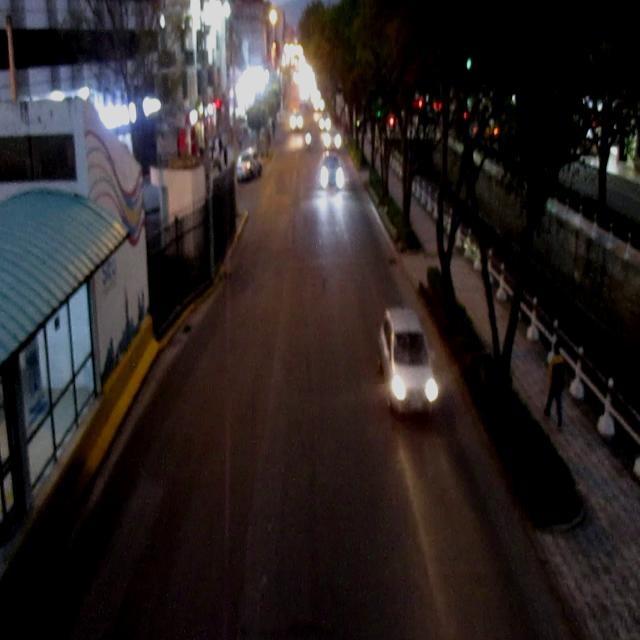SUV: (386, 308, 437, 416), (238, 152, 262, 182)
